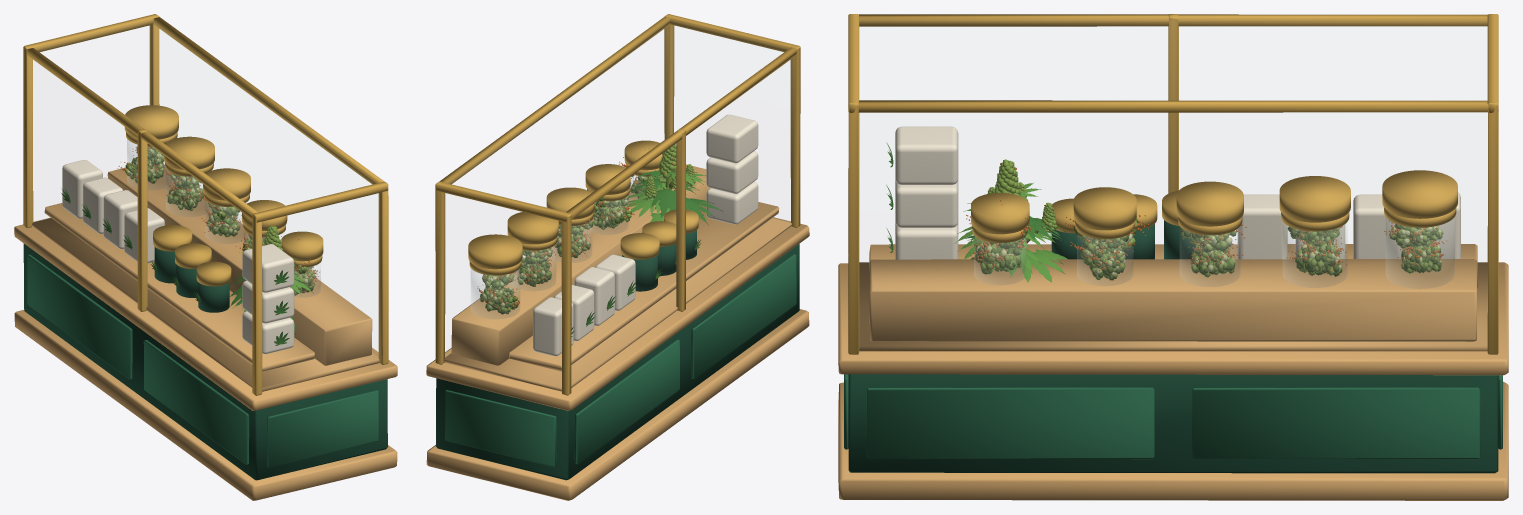
Rendered from display_case.glb.
The picture shows the model from 3 angles, left to right: view 1: azimuth 30°, elevation 25°; view 2: azimuth 150°, elevation 25°; view 3: azimuth 270°, elevation 25°; orthographic projection. The views are drawn at different scales.
Visible parts, largest first — view 1: Base, Tier, Plinth, Rail, Floor, EndPanel1, Shelf, BasePanel0-1, BasePanel1-1, TopRailX1, TopRailX-1, PostMid (+28 smaller); view 2: Base, Plinth, Rail, Tier, Floor, EndPanel-1, BasePanel1-1, BasePanel0-1, Shelf, TopRailX1, TopRailX-1, Stack2 (+31 smaller); view 3: Tier, Base, BasePanel11, BasePanel01, Plinth, Rail, Floor, TopRailX1, TopRailX-1, Jar0Glass, Stack2, Jar1Glass (+24 smaller).
Boxes of the visible parts, <box> form: Base: <box>23,243,387,480</box>; Tier: <box>107,167,372,365</box>; Plinth: <box>14,310,397,500</box>; Rail: <box>14,217,397,410</box>; Floor: <box>32,218,379,391</box>; EndPanel1: <box>267,390,378,467</box>; Shelf: <box>44,203,315,371</box>; BasePanel0-1: <box>27,254,132,379</box>; BasePanel1-1: <box>143,340,249,464</box>; TopRailX1: <box>153,17,384,184</box>; TopRailX-1: <box>26,48,257,219</box>; PostMid: <box>137,129,147,311</box>; Base: <box>435,244,799,480</box>; Plinth: <box>426,309,809,500</box>; Rail: <box>426,217,809,410</box>; Tier: <box>451,164,710,365</box>; Floor: <box>444,218,791,391</box>; EndPanel-1: <box>445,390,556,467</box>; BasePanel1-1: <box>691,254,796,378</box>; BasePanel0-1: <box>574,339,679,464</box>; Shelf: <box>509,202,779,371</box>; TopRailX1: <box>439,16,670,184</box>; TopRailX-1: <box>566,47,796,219</box>; Stack2: <box>706,114,758,163</box>; Tier: <box>869,259,1476,341</box>; Base: <box>848,374,1498,473</box>; BasePanel11: <box>866,387,1154,459</box>; BasePanel01: <box>1192,387,1480,459</box>; Plinth: <box>838,381,1508,500</box>; Rail: <box>838,262,1508,375</box>; Floor: <box>859,262,1487,351</box>; TopRailX1: <box>858,100,1488,112</box>; TopRailX-1: <box>858,14,1487,26</box>; Jar0Glass: <box>1386,217,1454,288</box>; Stack2: <box>895,126,958,184</box>; Jar1Glass: <box>1283,222,1347,287</box>.
Size of the model in its own units: 0.4473 by 0.8277 by 1.28.
